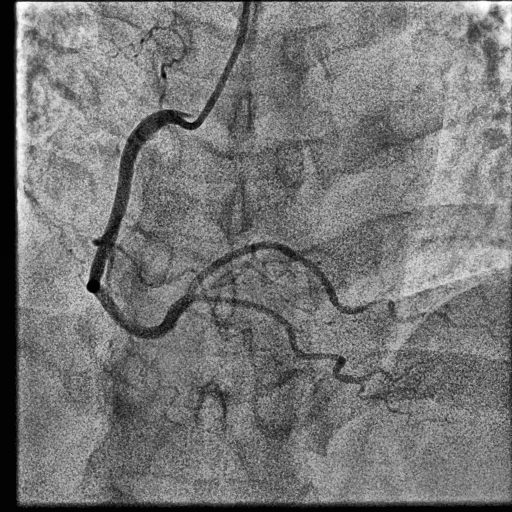pborca: (186, 242, 424, 322)
pda: (195, 296, 378, 383)
rca: (87, 109, 197, 340)
